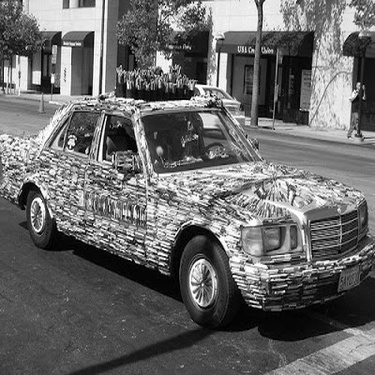car: (1, 63, 355, 325)
